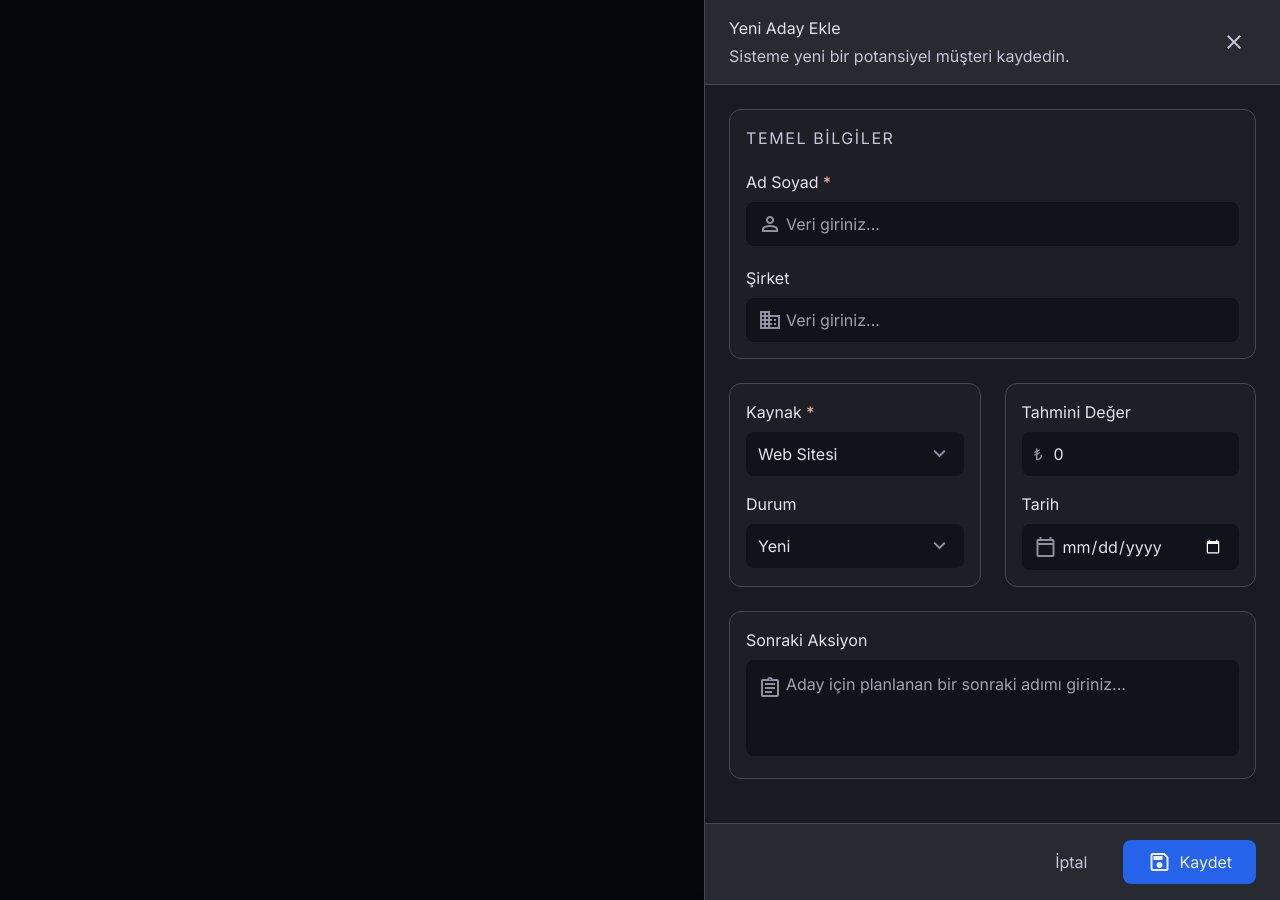
Test: AdayEkleduzenle › shows validation error when name is empty
This screenshot has width=1280, height=900.
Step 1. Click the button "Kaydet" → (1190,862), box [1123, 840, 1256, 884]
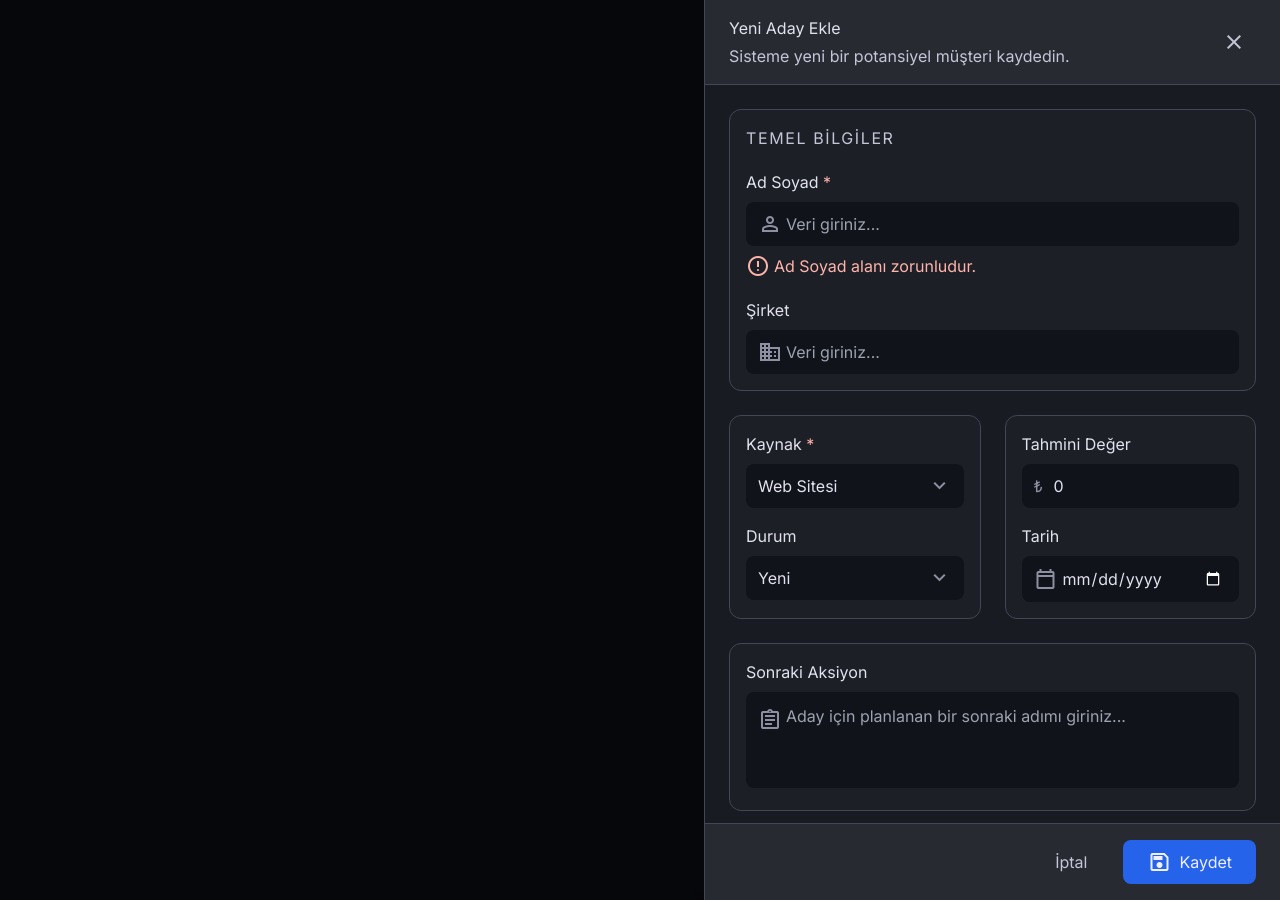
expect the text "Ad Soyad alanı zorunludur." is shown: met, box [746, 252, 976, 280]
